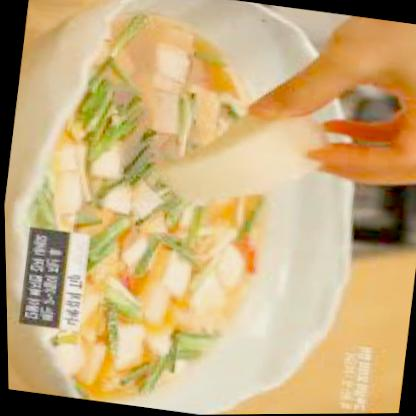nabak Kimchi: (0, 0, 337, 415)
